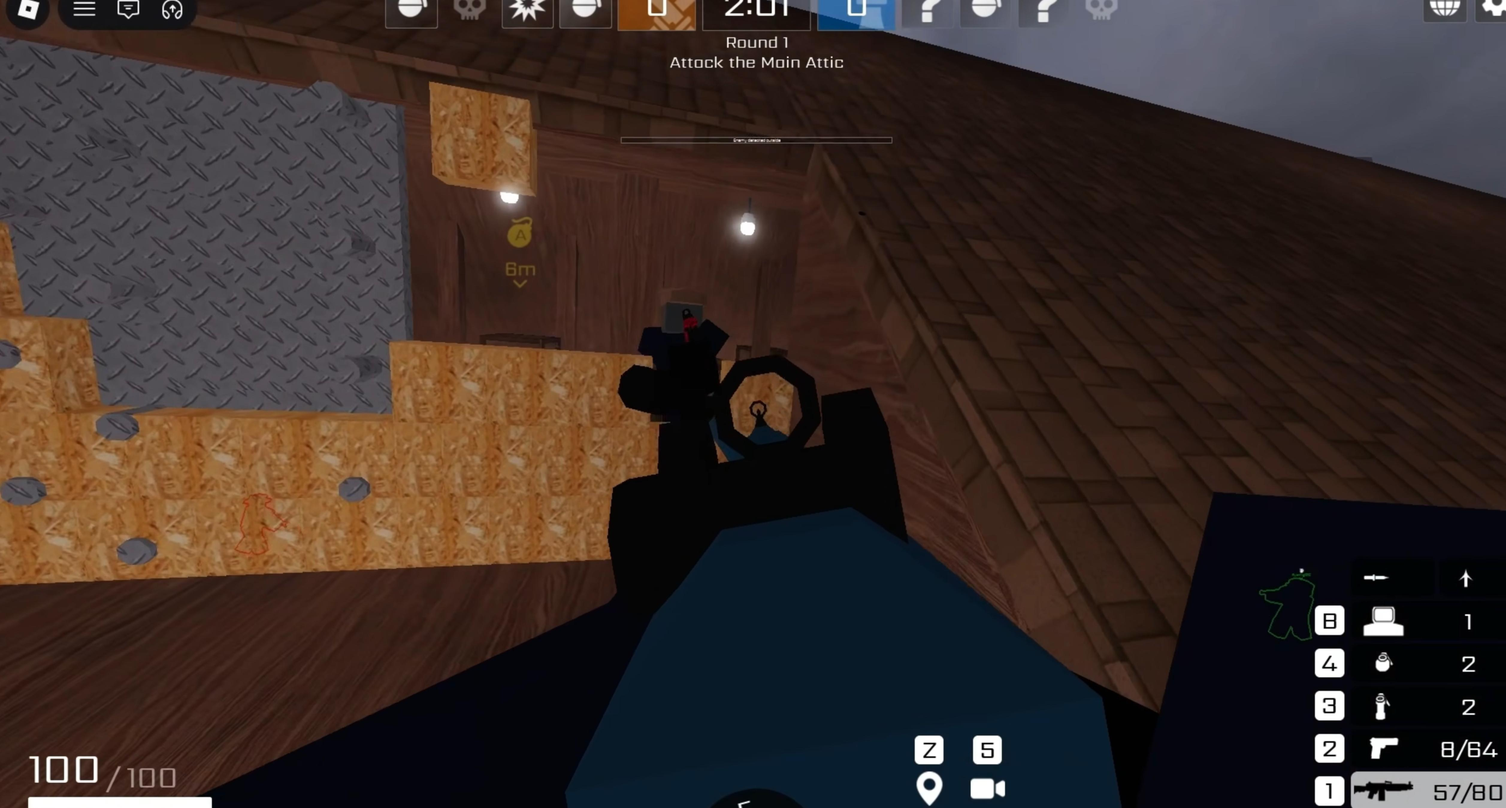enemy: (635, 275, 738, 438)
